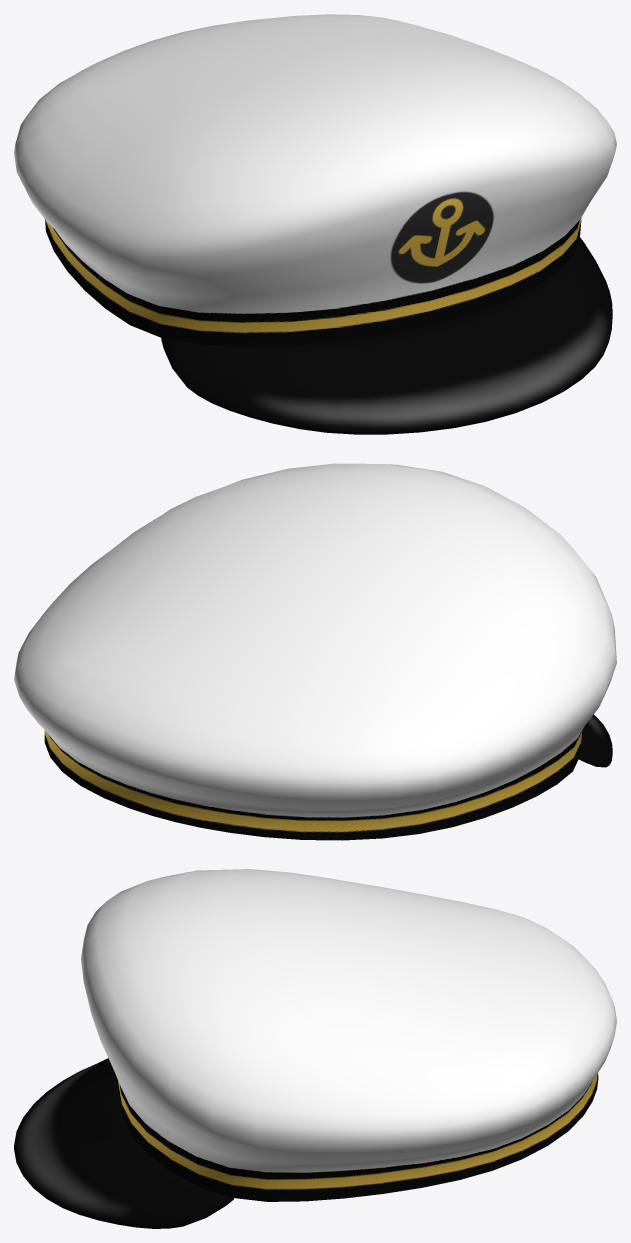
Rendered from CaptainHat.fbx.
The picture shows the model from 3 angles, top to bottom: view 1: azimuth 30°, elevation 25°; view 2: azimuth 150°, elevation 25°; view 3: azimuth 270°, elevation 25°; orthographic projection. The views are drawn at different scales.
Visible parts, largest first — view 1: CaptainHat; view 2: CaptainHat; view 3: CaptainHat.
Part boxes in pixels (x1,y1,x2,y2): CaptainHat: (14,14,616,434); CaptainHat: (14,463,616,840); CaptainHat: (14,869,616,1228).
Bounding box in the file's own units: 38.14 × 18.14 × 41.91.
